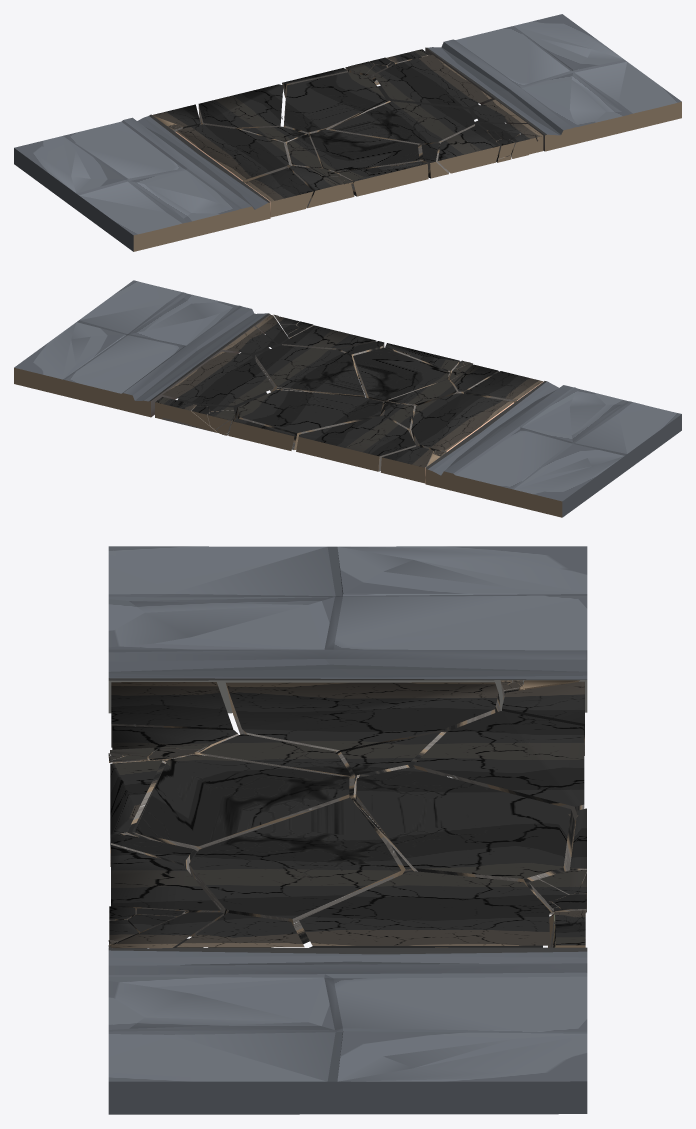
The model's file is road_collapsing_1.fbx.
3 renders of one model, top to bottom at view 1: azimuth 30°, elevation 25°; view 2: azimuth 150°, elevation 25°; view 3: azimuth 270°, elevation 25°, orthographic. The views are drawn at different scales.
Visible parts, largest first — view 1: Road_2_Deformed.002, Road_2_Deformed.001, Road_Collapsing_cell.003, Road_Collapsing_cell.017, Road_Collapsing_cell.012, Road_Collapsing_cell.024, Road_Collapsing_cell.002, Road_Collapsing_cell.014, Road_Collapsing_cell.007, Road_Collapsing_cell.019, Road_Collapsing_cell.009, Road_Collapsing_cell.011 (+8 smaller); view 2: Road_2_Deformed.002, Road_2_Deformed.001, Road_Collapsing_cell.003, Road_Collapsing_cell.017, Road_Collapsing_cell.014, Road_Collapsing_cell.012, Road_Collapsing_cell.024, Road_Collapsing_cell.002, Road_Collapsing_cell.019, Road_Collapsing_cell.015, Road_Collapsing_cell.007, Road_Collapsing_cell.016 (+8 smaller); view 3: Road_2_Deformed.001, Road_2_Deformed.002, Road_Collapsing_cell.003, Road_Collapsing_cell.017, Road_Collapsing_cell.012, Road_Collapsing_cell.024, Road_Collapsing_cell.002, Road_Collapsing_cell.014, Road_Collapsing_cell.019, Road_Collapsing_cell.007, Road_Collapsing_cell.004, Road_Collapsing_cell.026 (+8 smaller).
Boxes of the visible parts, left/top/right/bottom form: Road_2_Deformed.002: left=14, top=114, right=270, bottom=251; Road_2_Deformed.001: left=425, top=14, right=681, bottom=151; Road_Collapsing_cell.003: left=283, top=72, right=385, bottom=135; Road_Collapsing_cell.017: left=329, top=101, right=475, bottom=146; Road_Collapsing_cell.012: left=175, top=124, right=293, bottom=182; Road_Collapsing_cell.024: left=374, top=55, right=491, bottom=107; Road_Collapsing_cell.002: left=309, top=130, right=419, bottom=172; Road_Collapsing_cell.014: left=198, top=84, right=283, bottom=129; Road_Collapsing_cell.007: left=438, top=124, right=499, bottom=173; Road_Collapsing_cell.019: left=244, top=168, right=313, bottom=217; Road_Collapsing_cell.009: left=337, top=161, right=428, bottom=196; Road_Collapsing_cell.011: left=289, top=165, right=354, bottom=208; Road_2_Deformed.002: left=425, top=381, right=681, bottom=517; Road_2_Deformed.001: left=14, top=280, right=270, bottom=417; Road_Collapsing_cell.003: left=234, top=390, right=382, bottom=449; Road_Collapsing_cell.017: left=255, top=345, right=365, bottom=397; Road_Collapsing_cell.014: left=296, top=415, right=415, bottom=471; Road_Collapsing_cell.012: left=411, top=393, right=513, bottom=452; Road_Collapsing_cell.024: left=162, top=351, right=273, bottom=405; Road_Collapsing_cell.002: left=353, top=347, right=449, bottom=405; Road_Collapsing_cell.019: left=465, top=371, right=543, bottom=402; Road_Collapsing_cell.015: left=380, top=446, right=433, bottom=483; Road_Collapsing_cell.007: left=282, top=325, right=376, bottom=349; Road_Collapsing_cell.016: left=228, top=418, right=294, bottom=450; Road_2_Deformed.001: left=108, top=947, right=587, bottom=1114; Road_2_Deformed.002: left=108, top=546, right=587, bottom=713; Road_Collapsing_cell.003: left=355, top=767, right=575, bottom=897; Road_Collapsing_cell.017: left=189, top=797, right=401, bottom=944; Road_Collapsing_cell.012: left=226, top=682, right=500, bottom=753; Road_Collapsing_cell.024: left=299, top=871, right=550, bottom=945; Road_Collapsing_cell.002: left=132, top=754, right=349, bottom=851; Road_Collapsing_cell.014: left=413, top=711, right=584, bottom=823; Road_Collapsing_cell.019: left=111, top=682, right=233, bottom=747; Road_Collapsing_cell.007: left=111, top=845, right=220, bottom=936; Road_Collapsing_cell.004: left=200, top=734, right=350, bottom=776; Road_Collapsing_cell.026: left=177, top=913, right=304, bottom=947.
Bounding box in the file's own units: 1300 × 40.33 × 491.
7 materials, 7 textured.
